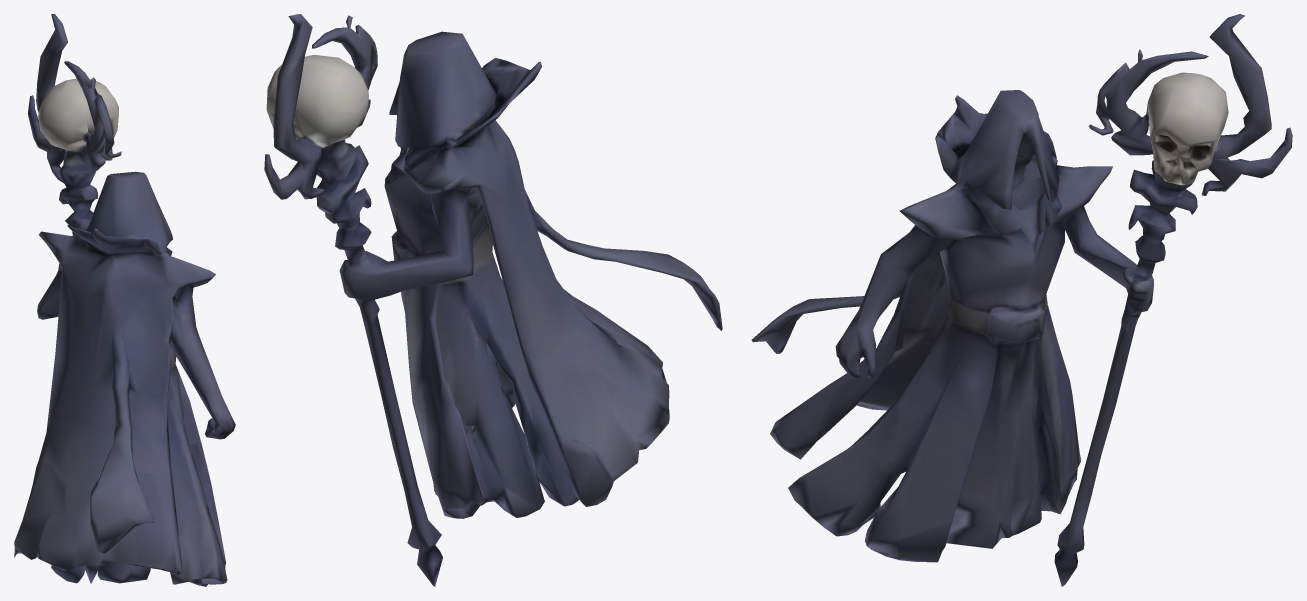
Rendered from necromancer_boss.glb.
The picture shows the model from 3 angles, left to right: view 1: azimuth 30°, elevation 25°; view 2: azimuth 150°, elevation 25°; view 3: azimuth 270°, elevation 25°; orthographic projection. The views are drawn at different scales.
Parts seen in each view (by area): view 1: tripo_node_0facd634-f028-4c51-9d09-1f4cd16171f4; view 2: tripo_node_0facd634-f028-4c51-9d09-1f4cd16171f4; view 3: tripo_node_0facd634-f028-4c51-9d09-1f4cd16171f4.
Boxes of the visible parts, left/top/right/bottom form: tripo_node_0facd634-f028-4c51-9d09-1f4cd16171f4: left=14, top=14, right=235, bottom=586; tripo_node_0facd634-f028-4c51-9d09-1f4cd16171f4: left=264, top=14, right=722, bottom=586; tripo_node_0facd634-f028-4c51-9d09-1f4cd16171f4: left=751, top=14, right=1292, bottom=586.
Size of the model in its own units: 0.37 by 0.9413 by 0.777.
1 material, 1 textured.
